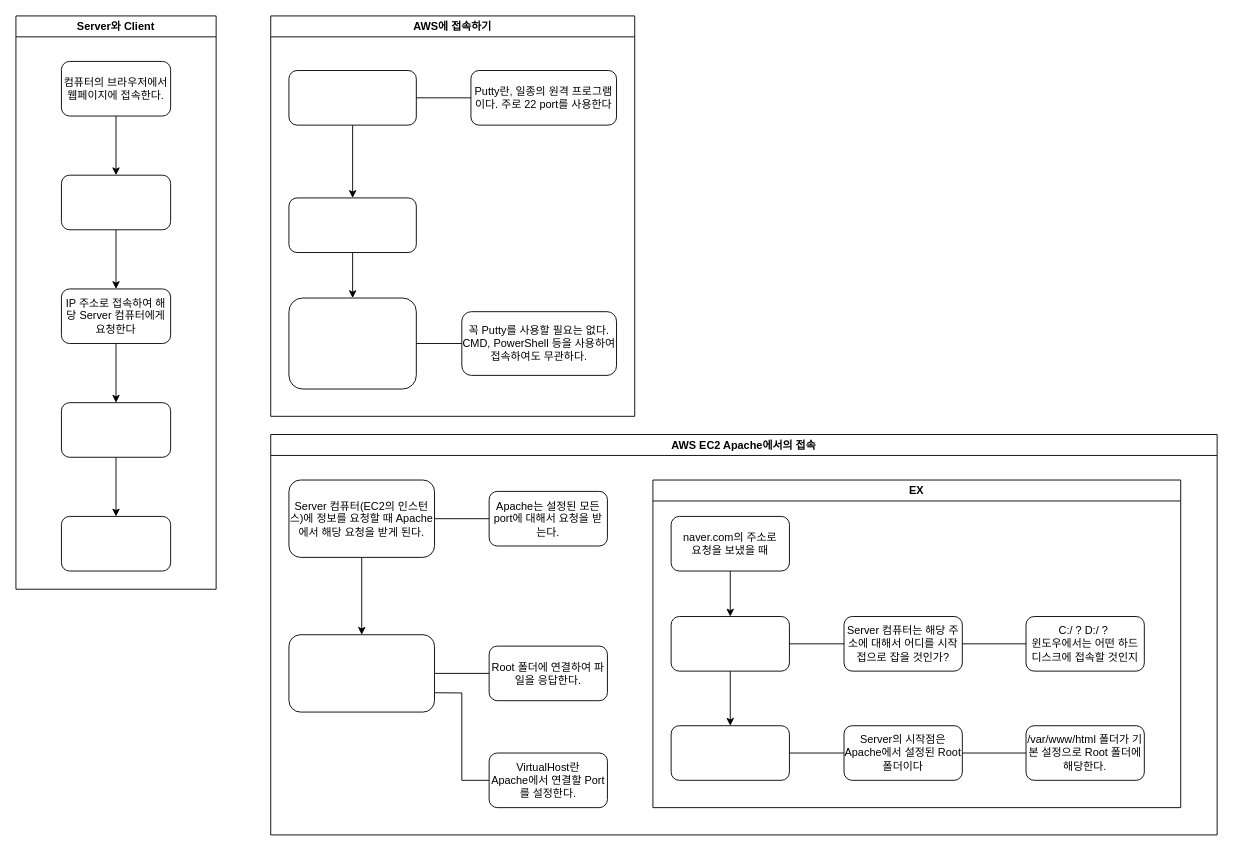
The diagram is 1233 pixels wide and 851 high, and some of its shapes have lost their labels. The shapes that lost their labels are listed below. From the top down, each one's centre as x and y in pixels, then its label:
At pixel 352 97: "Putty를 사용해서 IP 주소와 키 파일을 입력한다".
At pixel 116 202: "주소가 도메인일 경우 도메인 서버에서 IP 주소를 찾는다".
At pixel 352 225: "Putty는 IP 주소에 해당하는 Server에 22port로 접속을 시도한다".
At pixel 352 343: "Server 컴퓨터는 22 port에 대한 방화벽이 열려있을 때 Putty에서 보내온 키 파일을 확인하여 접속을 허락한다.".
At pixel 116 429: "해당 Server 컴퓨터는 요청의 라우터 등등의 정보를 기준으로 정보를 응답한다.".
At pixel 116 543: "응답한 정보가 HTML 파일일 경우에 브라우저는 해당 페이지를 출력한다.".
At pixel 729 643: "도메인 주소에 해당하는 IP 주소의 컴퓨터(EC2)에 요청을 보낸다.".
At pixel 361 673: "VirtualHost에 설정된 Port와 Root 폴더에 맞춰서 요청에 응답한다".
At pixel 729 752: "Apache에서 Root 폴더로 설정된 파일을 응답한다.".
